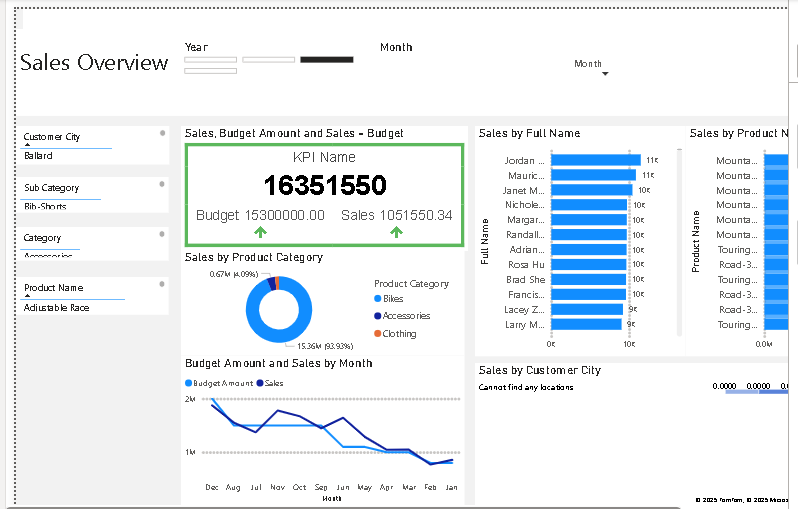

What the dashboard file says about the page in this screenshot:
{"tool":"powerbi","page":{"name":"Sales Overview","canvas":[1280,720],"ordinal":0},"visuals":[{"type":"textbox","box":[0,0,1280,64],"z":0},{"type":"slicer","fields":{"Values":["DIM_Calendar.Year"]},"box":[256,0,256,64],"z":1000},{"type":"slicer","fields":{"Values":["DIM_Calendar.MonthShort"]},"box":[512,0,768,64],"z":2000},{"type":"slicer","fields":{"Values":["DIM_Customers.Customer City"]},"box":[0,73,150.5,69.3],"z":3000},{"type":"slicer","fields":{"Values":["DIM_Products.Product Category"]},"box":[0,229.9,150.5,69.3],"z":4000},{"type":"slicer","fields":{"Values":["DIM_Products.Product Name"]},"box":[0,308.4,150.5,69.3],"z":5000},{"type":"slicer","fields":{"Values":["DIM_Products.Sub Category"]},"box":[0,151.4,150.5,69.3],"z":6000},{"type":"barChart","title":"Sales by Top 10 Products","fields":{"Category":["DIM_Products.Product Name"],"Y":["Analysis Metrics.Sales"]},"box":[955.2,73,324.8,321.1],"z":7000},{"type":"lineChart","fields":{"Category":["DIM_Calendar.MonthShort"],"Y":["Analysis Metrics.Sales","Analysis Metrics.Budget"]},"box":[160.7,452.8,456.3,267.2],"z":8000},{"type":"barChart","title":"Sales by Top 10 Customers","fields":{"Category":["DIM_Customers.Full Name"],"Y":["Analysis Metrics.Sales"]},"box":[625.9,73,320.2,321.1],"z":9000},{"type":"donutChart","fields":{"Y":["Analysis Metrics.Sales"],"Series":["DIM_Products.Product Category"]},"box":[160.6,229.9,456.2,213.5],"z":10000},{"type":"azureMap","fields":{"Category":["DIM_Customers.Customer City"],"Size":["Analysis Metrics.Sales"]},"box":[625.9,403.3,654.1,316.6],"z":12000},{"type":"BBED0A4D4D8D44CE93CF2DAFADEE466C","fields":{"actual":["Analysis Metrics.Sales"],"target2":["Analysis Metrics.Sales / Budget"],"target1":["Analysis Metrics.Budget"]},"box":[160.5,73.4,456.6,151.3],"z":13001}]}

Visuals, with their boxes on the page's 1280x720 design canvas (x1, y1, x2, y2). These are canvas units, not pixel positions in the 798x509 screenshot, which may show the page scaled, cropped or inside an application window:
textbox: select_region(0, 0, 1280, 64)
slicer - DIM_Calendar.Year: select_region(256, 0, 512, 64)
slicer - DIM_Calendar.MonthShort: select_region(512, 0, 1280, 64)
slicer - DIM_Customers.Customer City: select_region(0, 73, 150, 142)
slicer - DIM_Products.Product Category: select_region(0, 230, 150, 299)
slicer - DIM_Products.Product Name: select_region(0, 308, 150, 378)
slicer - DIM_Products.Sub Category: select_region(0, 151, 150, 221)
"Sales by Top 10 Products" barChart: select_region(955, 73, 1280, 394)
lineChart - DIM_Calendar.MonthShort x Analysis Metrics.Sales: select_region(161, 453, 617, 720)
"Sales by Top 10 Customers" barChart: select_region(626, 73, 946, 394)
donutChart - Analysis Metrics.Sales x DIM_Products.Product Category: select_region(161, 230, 617, 443)
azureMap - DIM_Customers.Customer City x Analysis Metrics.Sales: select_region(626, 403, 1280, 720)
BBED0A4D4D8D44CE93CF2DAFADEE466C - Analysis Metrics.Sales x Analysis Metrics.Sales / Budget: select_region(160, 73, 617, 225)
